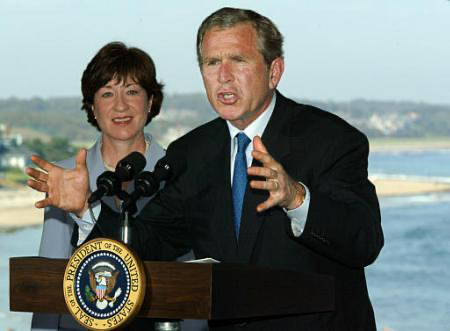Face: (201, 32, 272, 125), (93, 80, 153, 139)
